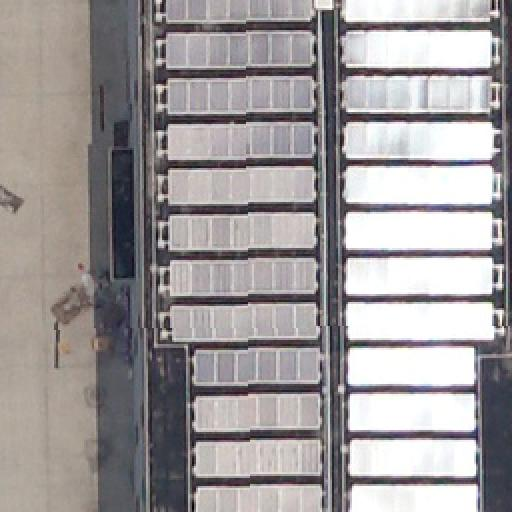solar-panel: (159, 1, 313, 71), (345, 300, 495, 340), (168, 302, 316, 342), (344, 256, 492, 296), (166, 212, 314, 252), (344, 164, 492, 204), (344, 120, 492, 160), (343, 30, 489, 70), (168, 257, 316, 295), (344, 213, 492, 251), (166, 169, 314, 207), (344, 77, 492, 115), (166, 77, 314, 115), (166, 124, 314, 160), (347, 392, 477, 432), (348, 438, 476, 478), (192, 392, 320, 432), (346, 346, 474, 386), (194, 437, 322, 475), (192, 348, 320, 384), (194, 484, 322, 512), (349, 484, 475, 512), (343, 0, 489, 24)
